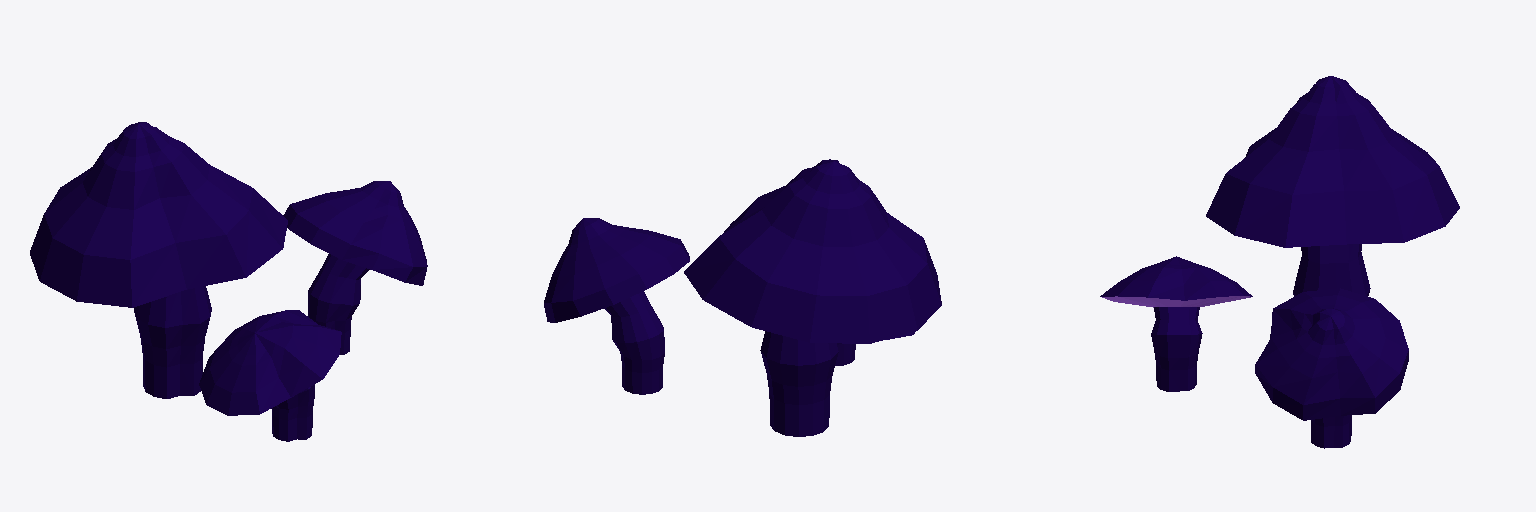
File: glowMush.obj
The picture shows the model from 3 angles: view 1: azimuth 30°, elevation 25°; view 2: azimuth 150°, elevation 25°; view 3: azimuth 270°, elevation 25°; orthographic projection.
Visible parts, largest first — view 1: Cylinder.006; view 2: Cylinder.006; view 3: Cylinder.006.
Boxes of the visible parts, x1,y1,x2,y2 form: Cylinder.006: [30, 122, 427, 441]; Cylinder.006: [544, 159, 941, 436]; Cylinder.006: [1100, 76, 1459, 448].
Size of the model in its own units: 14.15 by 10.03 by 12.07.